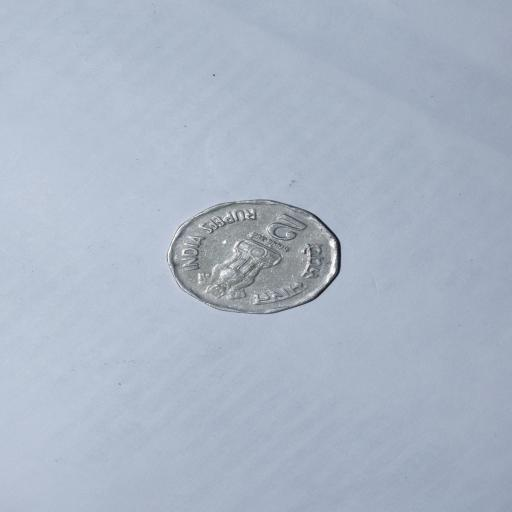rupee2: (160, 198, 348, 319)
